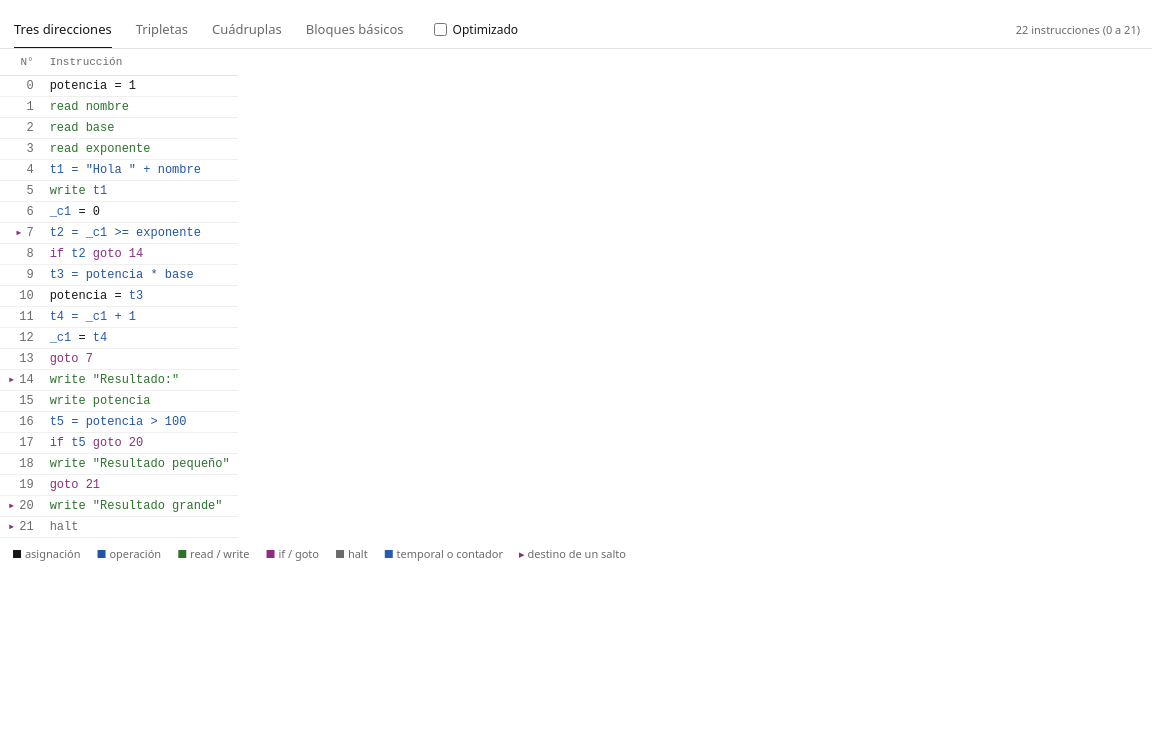
Test case: código intermedio optimizado › la vista de bloques básicos muestra el grafo de flujo
This screenshot has width=1152, height=732.
Click the tab "Bloques básicos" at [355, 30], box [296,12,414,48]
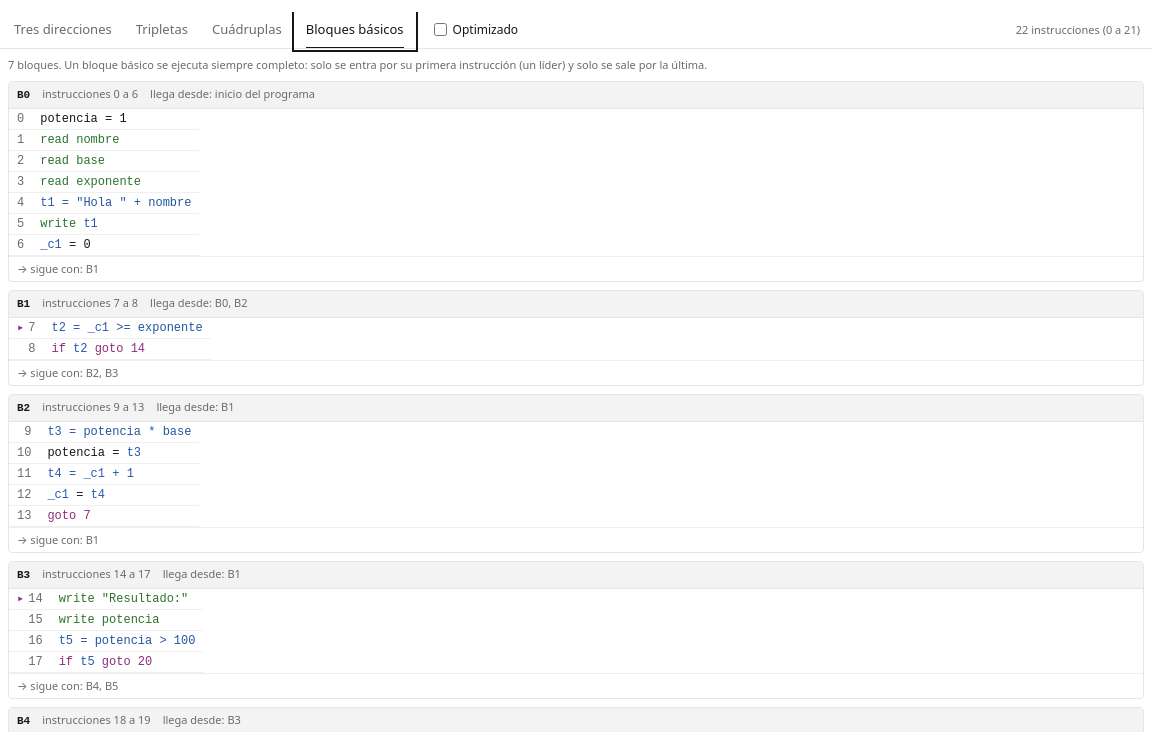
Now the list item with aria-label "B1: instrucciones 7 a 8" shows "llega desde: B0, B2", box [8,290,1144,386]
Now the list item with aria-label "B1: instrucciones 7 a 8" shows "sigue con: B2, B3", box [8,290,1144,386]
Now the list item with aria-label "B0: instrucciones 0 a 6" shows "llega desde: inicio del programa", box [8,81,1144,282]
